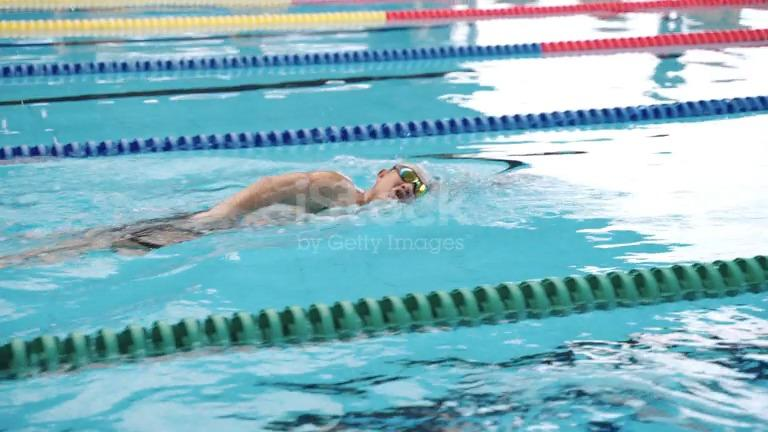Swimming: (21, 108, 499, 285)
